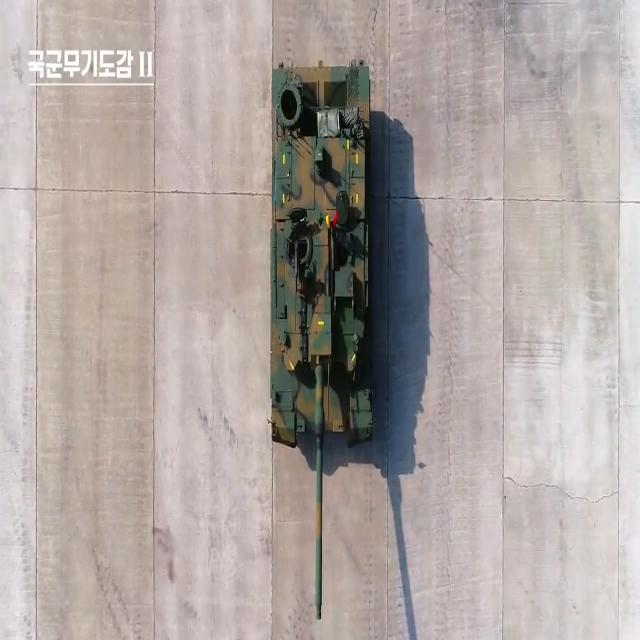korea tank: (266, 55, 380, 621)
